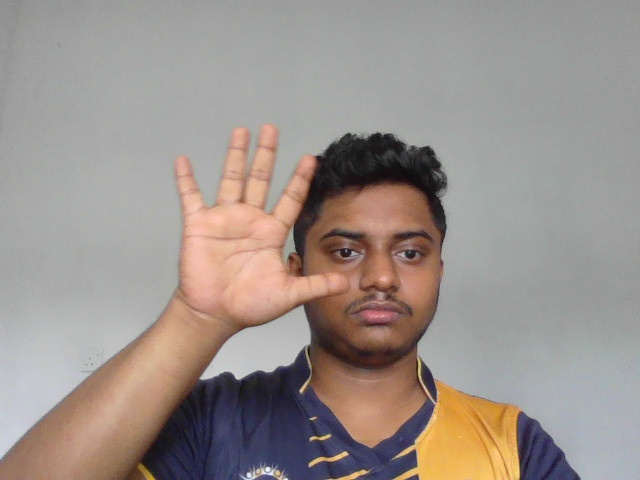Hello: (171, 123, 351, 328)
